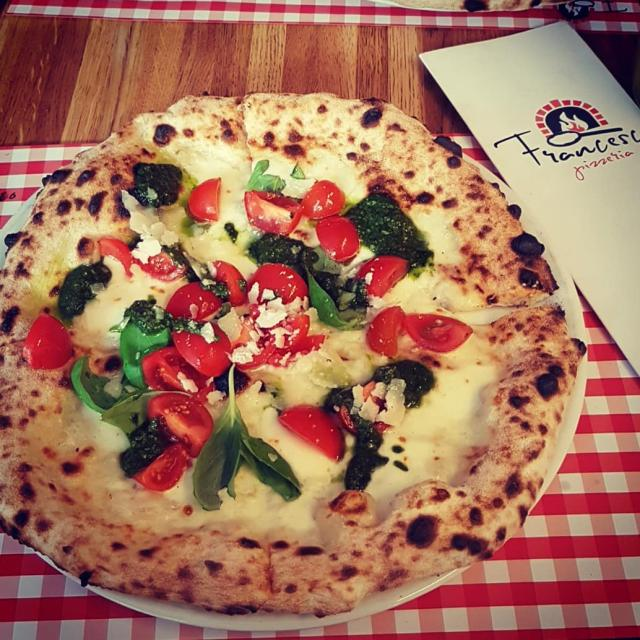basil: (197, 364, 245, 508), (234, 428, 303, 502), (115, 318, 169, 387), (72, 357, 119, 412), (305, 273, 346, 330), (102, 392, 153, 433), (246, 158, 287, 195)
pizza: (0, 93, 585, 618)
tomatoes: (149, 390, 213, 460), (172, 317, 236, 380), (279, 403, 345, 464), (140, 345, 213, 400), (241, 190, 303, 238), (247, 266, 308, 314), (265, 313, 329, 358), (22, 311, 72, 368), (406, 312, 473, 354), (340, 382, 392, 431), (134, 444, 188, 490), (232, 312, 278, 365), (360, 256, 411, 300), (164, 284, 220, 324), (366, 302, 404, 358), (314, 218, 362, 262), (297, 178, 347, 219), (210, 258, 246, 305), (188, 176, 224, 222), (97, 238, 138, 278), (141, 253, 190, 283)
